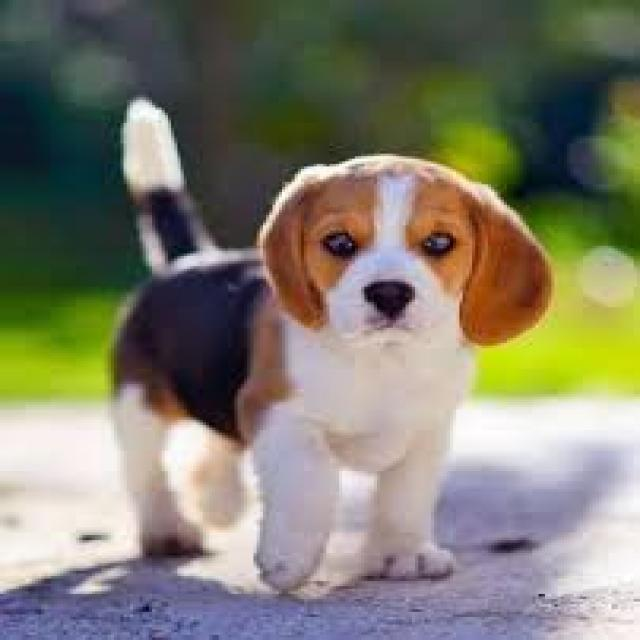Dog: (98, 87, 558, 596)
